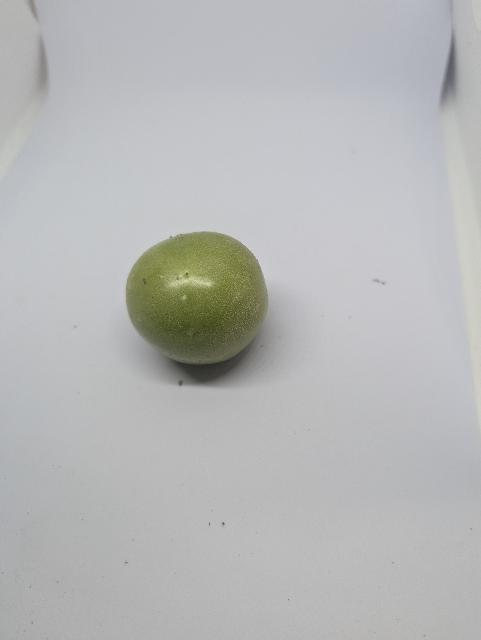green: (120, 222, 285, 371)
